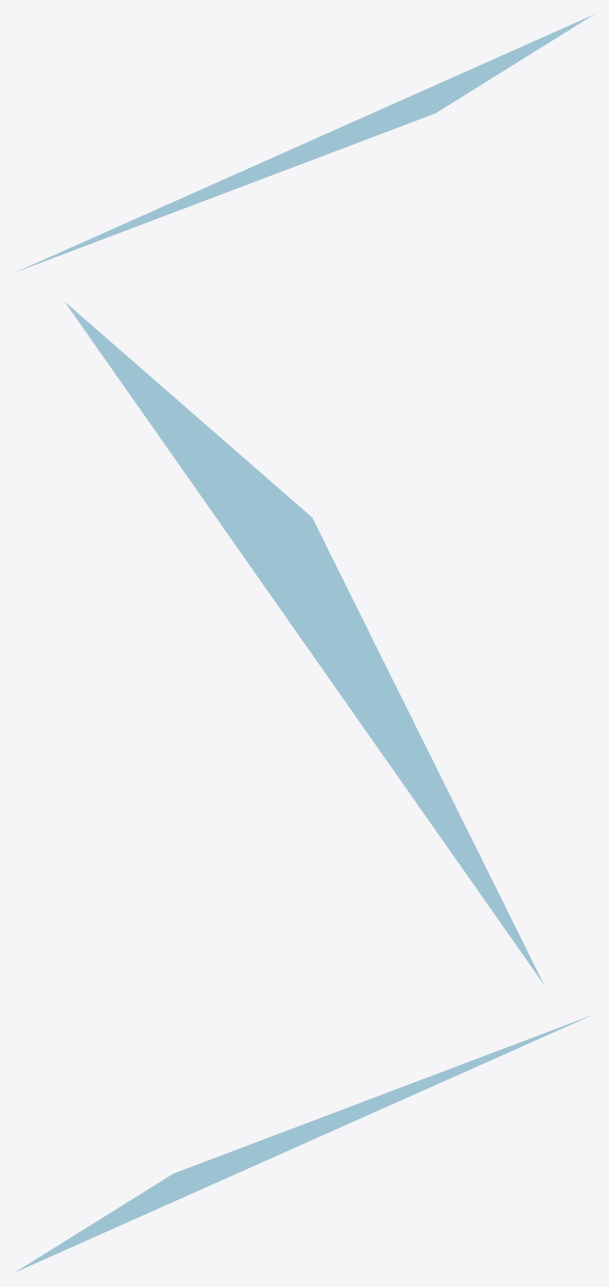
The model's file is terrain-context-C-x0-z2.glb.
3 renders of one model, top to bottom at view 1: azimuth 90°, elevation 25°; view 2: azimuth 150°, elevation 25°; view 3: azimuth 270°, elevation 25°, orthographic. The views are drawn at different scales.
Parts seen in each view (by area): view 1: C-x0-z2; view 2: C-x0-z2; view 3: C-x0-z2.
Part boxes in pixels (x1=…): C-x0-z2: x1=15, y1=15, x2=592, y2=272; C-x0-z2: x1=64, y1=301, x2=543, y2=984; C-x0-z2: x1=16, y1=1014, x2=593, y2=1271.
Bounding box in the file's own units: 8.23 × 1.07e-06 × 7.8.
